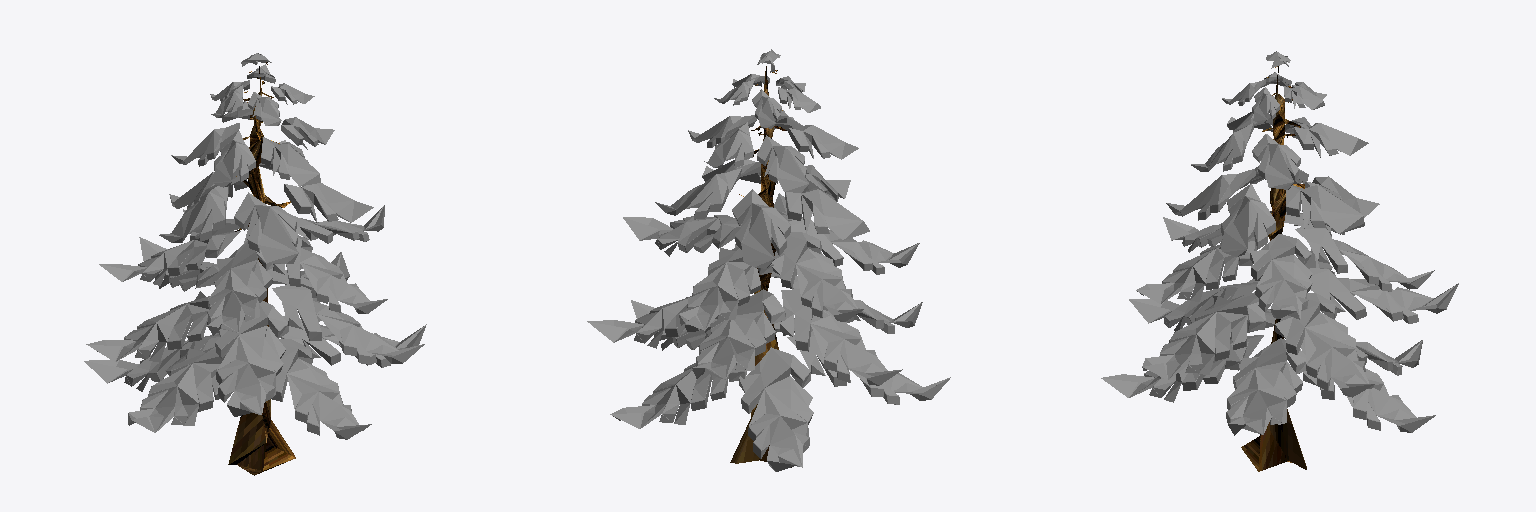
3 renders of one model, left to right at view 1: azimuth 30°, elevation 25°; view 2: azimuth 150°, elevation 25°; view 3: azimuth 270°, elevation 25°, orthographic.
Visible parts, largest first — view 1: the_square_brunch_016, the_square_brunch_022, the_square_brunch_023, the_square_brunch_017, the_square_brunch_030, trunk001, the_square_brunch_020, the_short_square_brunch_021, the_square_brunch_026, the_square_brunch_029, the_square_brunch_021, the_short_square_brunch_024 (+11 smaller); view 2: the_square_brunch_021, the_square_brunch_020, the_square_brunch_019, the_square_brunch_029, the_square_brunch_028, the_square_brunch_025, the_short_square_brunch_023, the_square_brunch_027, the_short_square_brunch_020, the_square_brunch_018, the_square_brunch_030, the_square_brunch_022 (+12 smaller); view 3: the_square_brunch_017, the_square_brunch_024, the_square_brunch_018, the_square_brunch_027, the_square_brunch_019, trunk001, the_square_brunch_026, the_square_brunch_028, the_square_brunch_023, the_square_brunch_025, the_short_square_brunch_024, the_short_square_brunch_022 (+10 smaller).
Boxes of the visible parts, <box> form: the_square_brunch_016: <box>215,301,288,416</box>; the_square_brunch_022: <box>128,347,226,432</box>; the_square_brunch_023: <box>271,339,371,439</box>; the_square_brunch_017: <box>272,284,424,364</box>; the_square_brunch_030: <box>207,241,273,335</box>; trunk001: <box>228,62,295,475</box>; the_square_brunch_020: <box>86,291,209,362</box>; the_short_square_brunch_021: <box>234,192,298,263</box>; the_square_brunch_026: <box>273,235,387,313</box>; the_square_brunch_029: <box>99,231,240,285</box>; the_square_brunch_021: <box>84,333,220,391</box>; the_short_square_brunch_024: <box>284,183,373,223</box>; the_square_brunch_021: <box>739,347,813,471</box>; the_square_brunch_020: <box>780,289,902,385</box>; the_square_brunch_019: <box>692,289,785,379</box>; the_square_brunch_029: <box>772,232,863,321</box>; the_square_brunch_028: <box>679,247,773,330</box>; the_square_brunch_025: <box>610,363,746,428</box>; the_short_square_brunch_023: <box>732,189,790,268</box>; the_square_brunch_027: <box>623,215,741,256</box>; the_short_square_brunch_020: <box>785,188,869,240</box>; the_square_brunch_018: <box>587,296,718,348</box>; the_square_brunch_030: <box>789,217,919,274</box>; the_square_brunch_022: <box>787,331,950,404</box>; the_square_brunch_017: <box>1142,292,1265,379</box>; the_square_brunch_024: <box>1226,338,1305,435</box>; the_square_brunch_018: <box>1275,293,1374,397</box>; the_square_brunch_027: <box>1250,234,1312,319</box>; the_square_brunch_019: <box>1309,268,1458,323</box>; trunk001: <box>1241,66,1306,471</box>; the_square_brunch_026: <box>1136,236,1256,303</box>; the_square_brunch_028: <box>1295,224,1434,291</box>; the_square_brunch_023: <box>1101,335,1263,402</box>; the_square_brunch_025: <box>1301,337,1435,432</box>; the_short_square_brunch_024: <box>1221,184,1275,256</box>; the_short_square_brunch_022: <box>1286,185,1364,233</box>.
Size of the model in its own units: 161 by 204 by 163.
2 materials, 1 textured.